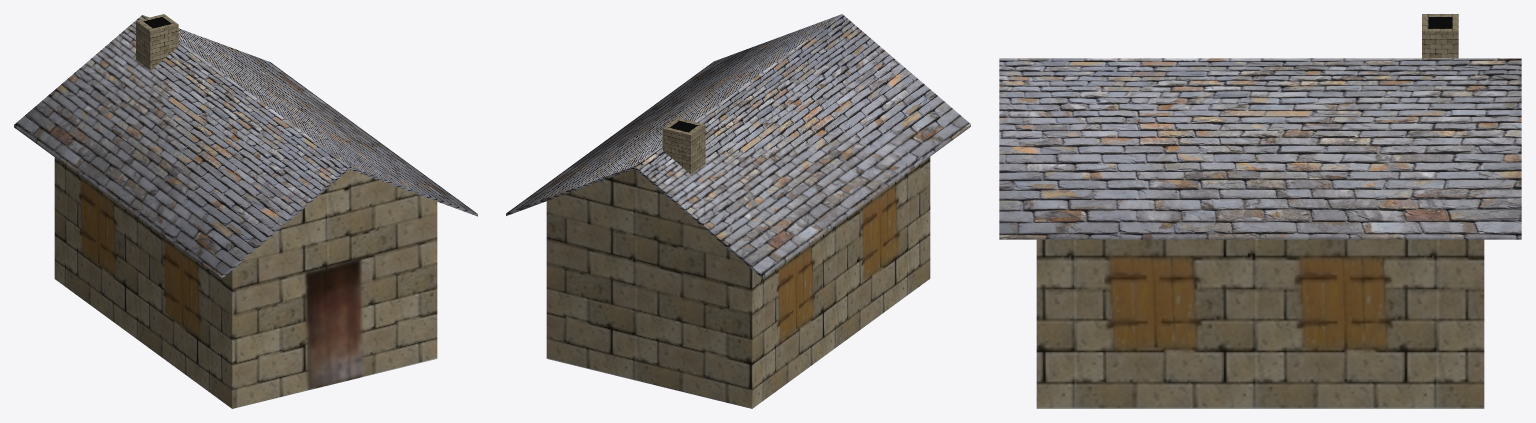
Rendered from house.glb.
3 renders of one model, left to right at view 1: azimuth 30°, elevation 25°; view 2: azimuth 150°, elevation 25°; view 3: azimuth 270°, elevation 25°, orthographic. The views are drawn at different scales.
Parts seen in each view (by area): view 1: node_id714; view 2: node_id714; view 3: node_id714.
Boxes of the visible parts, left/top/right/bottom form: node_id714: left=14, top=14, right=477, bottom=408; node_id714: left=506, top=14, right=970, bottom=408; node_id714: left=999, top=14, right=1521, bottom=408.
Bounding box in the file's own units: 0.512 × 0.4732 × 0.7168.
Materials: 1 (1 with a texture image).
